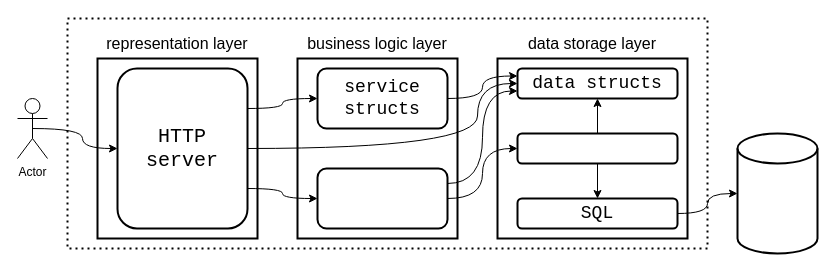
The diagram is 836 pixels wide and 271 high, and some of its shapes have lost their labels. The centre of each missing label's shape, as x and y in pixels:
"data funcs" belongs at (x=597, y=148).
"DB" belongs at (x=777, y=193).
"service funcs" belongs at (x=382, y=198).
